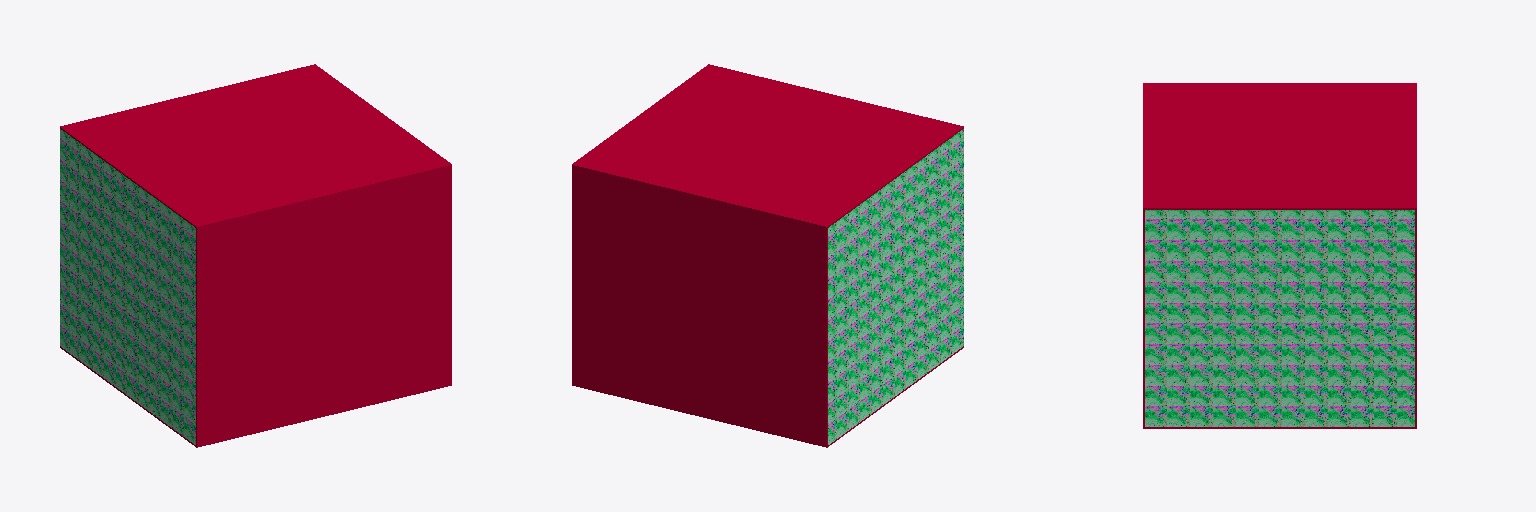
3 views of the same model, side by side, from view 1: azimuth 30°, elevation 25°; view 2: azimuth 150°, elevation 25°; view 3: azimuth 270°, elevation 25° (orthographic).
Parts seen in each view (by area): view 1: MIN#5.001_Mesh_16.002, MAXI_EDXTRA#1.001_Mesh_31.002; view 2: MIN#5.001_Mesh_16.002, MAXI_EDXTRA#1.001_Mesh_31.002; view 3: MAXI_EDXTRA#1.001_Mesh_31.002, MIN#5.001_Mesh_16.002.
Part boxes in pixels (bbox=[...]): MIN#5.001_Mesh_16.002: bbox=[60, 64, 451, 447]; MAXI_EDXTRA#1.001_Mesh_31.002: bbox=[60, 129, 195, 444]; MIN#5.001_Mesh_16.002: bbox=[572, 64, 963, 447]; MAXI_EDXTRA#1.001_Mesh_31.002: bbox=[828, 129, 963, 444]; MAXI_EDXTRA#1.001_Mesh_31.002: bbox=[1145, 210, 1414, 426]; MIN#5.001_Mesh_16.002: bbox=[1143, 83, 1416, 428].
Bounding box in the file's own units: 0.327 × 0.27 × 0.304.
Materials: 2 (1 with a texture image).